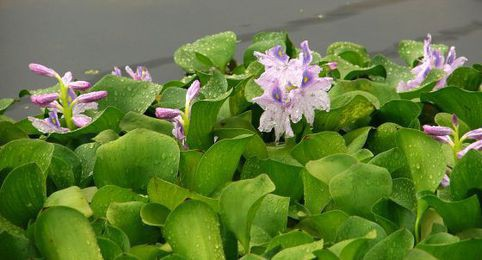water_hyacinth: (1, 28, 482, 260)
